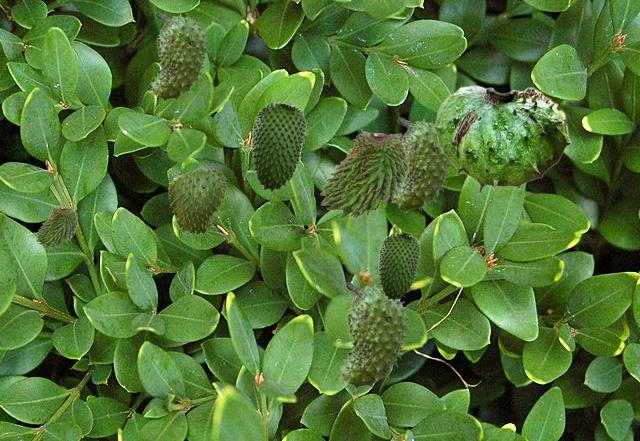guyabano: (433, 85, 570, 193), (319, 128, 409, 218), (338, 282, 412, 390), (149, 12, 211, 102), (393, 117, 451, 212), (251, 101, 305, 191), (168, 167, 227, 235), (378, 232, 419, 300), (35, 205, 77, 247)
